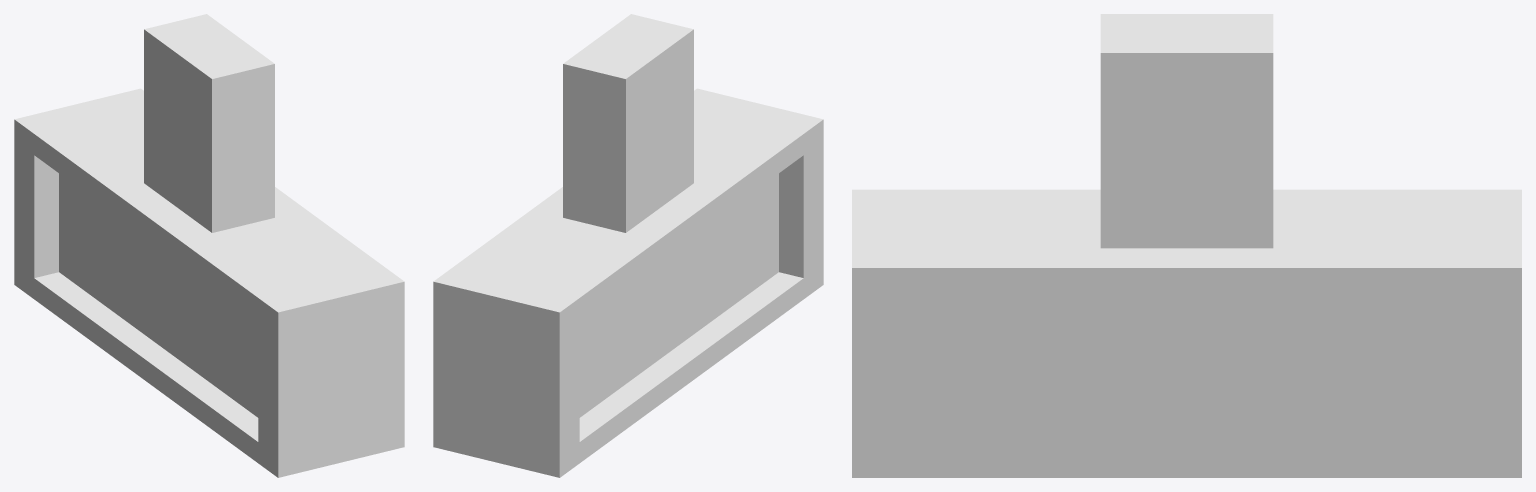
File: RearMirrorCase.glb
3 views of the same model, side by side, from view 1: azimuth 30°, elevation 25°; view 2: azimuth 150°, elevation 25°; view 3: azimuth 270°, elevation 25° (orthographic). The views are drawn at different scales.
Visible parts, largest first — view 1: RearMirrorCase.014; view 2: RearMirrorCase.014; view 3: RearMirrorCase.014.
Part boxes in pixels (left/top/right/bottom): RearMirrorCase.014: left=14, top=14, right=404, bottom=477; RearMirrorCase.014: left=433, top=14, right=823, bottom=477; RearMirrorCase.014: left=852, top=14, right=1521, bottom=477.
Size of the model in its own units: 0.00258 by 0.00623 by 0.00932.
1 material, 1 textured.
